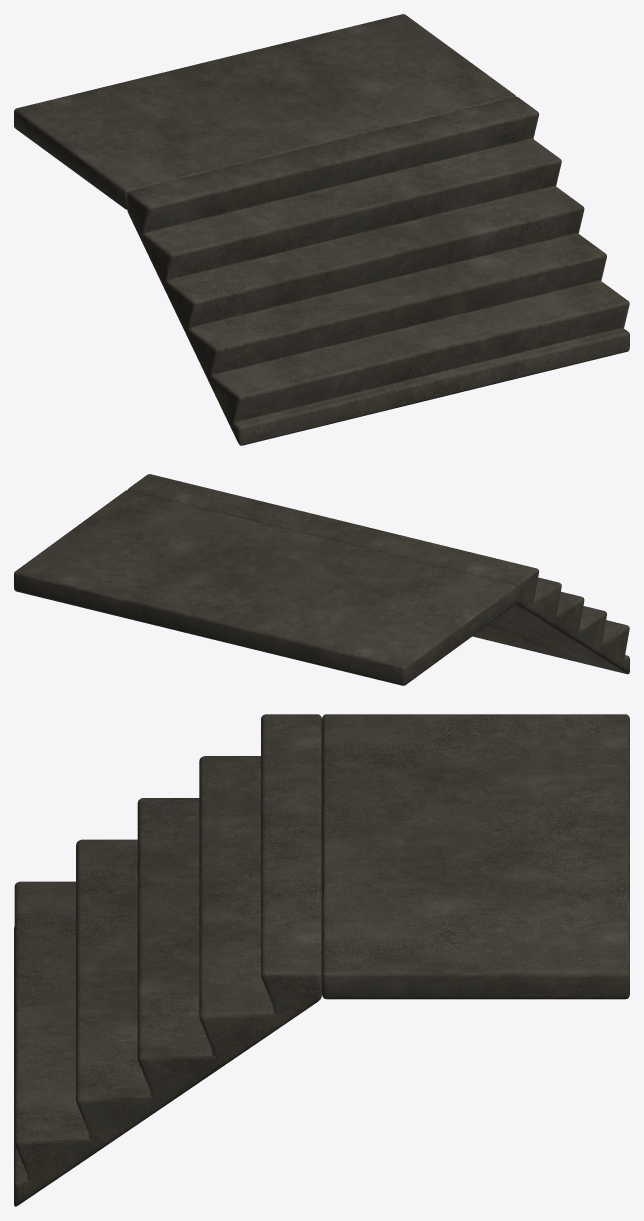
The model's file is stairs_4.obj.
3 renders of one model, top to bottom at view 1: azimuth 30°, elevation 25°; view 2: azimuth 150°, elevation 25°; view 3: azimuth 270°, elevation 25°, orthographic. The views are drawn at different scales.
Parts seen in each view (by area): view 1: stairs_4; view 2: stairs_4; view 3: stairs_4.
Part boxes in pixels (x1,y1,x2,y2): stairs_4: [14, 14, 629, 445]; stairs_4: [14, 474, 629, 685]; stairs_4: [14, 714, 629, 1206].
Bounding box in the file's own units: 4 × 1.69 × 4.
